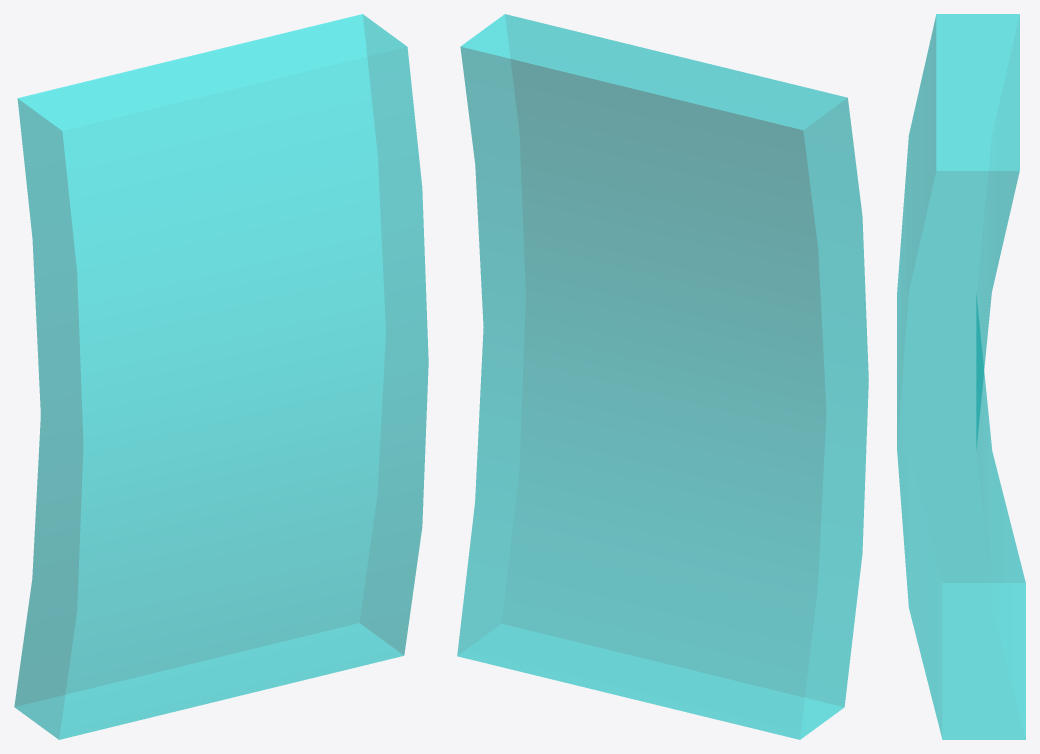
The model's file is SM_Bld_Door_Plane_01_Collision.fbx.
The picture shows the model from 3 angles, left to right: view 1: azimuth 30°, elevation 25°; view 2: azimuth 150°, elevation 25°; view 3: azimuth 270°, elevation 25°; orthographic projection. The views are drawn at different scales.
Parts seen in each view (by area): view 1: SM_Bld_Door_Plane_01_Collision; view 2: SM_Bld_Door_Plane_01_Collision; view 3: SM_Bld_Door_Plane_01_Collision.
Part boxes in pixels (box(x1,y1,x2,y2)): SM_Bld_Door_Plane_01_Collision: box(14, 14, 428, 739); SM_Bld_Door_Plane_01_Collision: box(457, 14, 868, 739); SM_Bld_Door_Plane_01_Collision: box(897, 14, 1025, 739).
Size of the model in its own units: 146 by 247 by 50.71.
